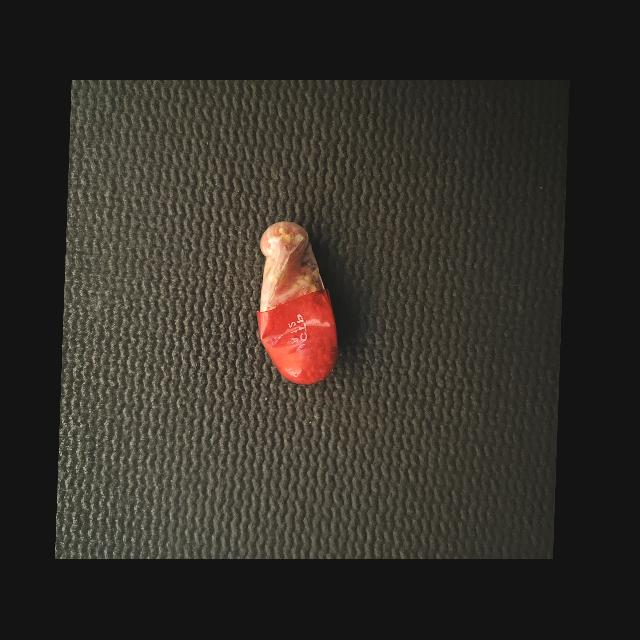Defective Capsule: (257, 222, 339, 385)
